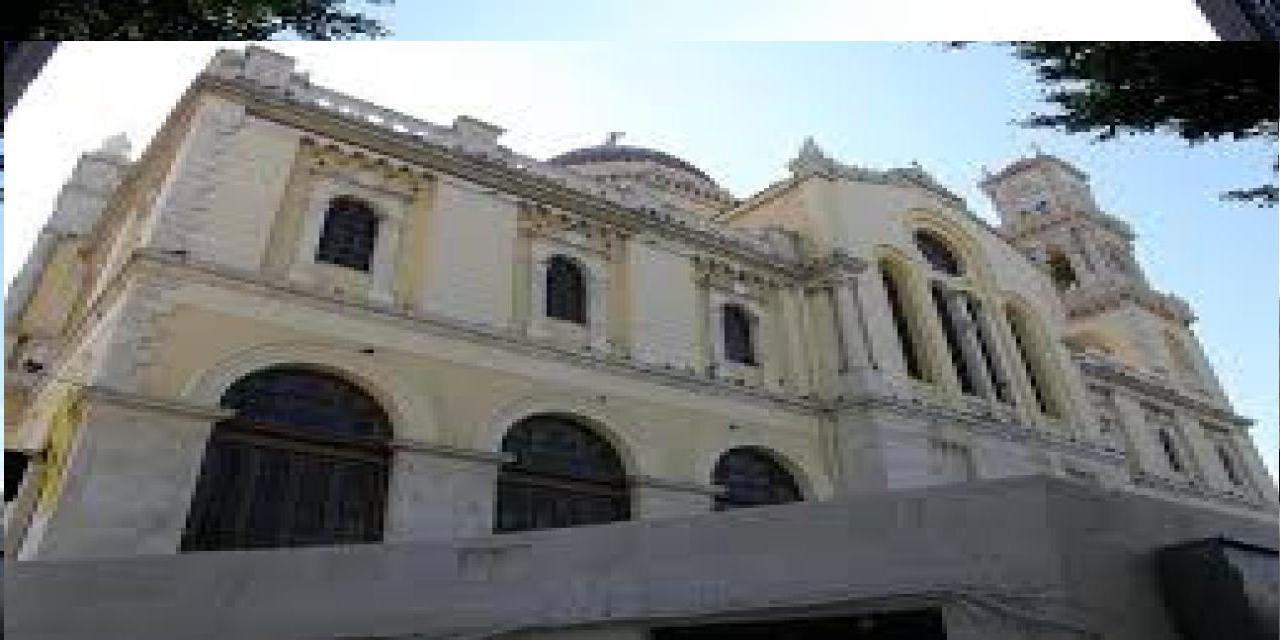Agios Minas: (5, 42, 1280, 640)
